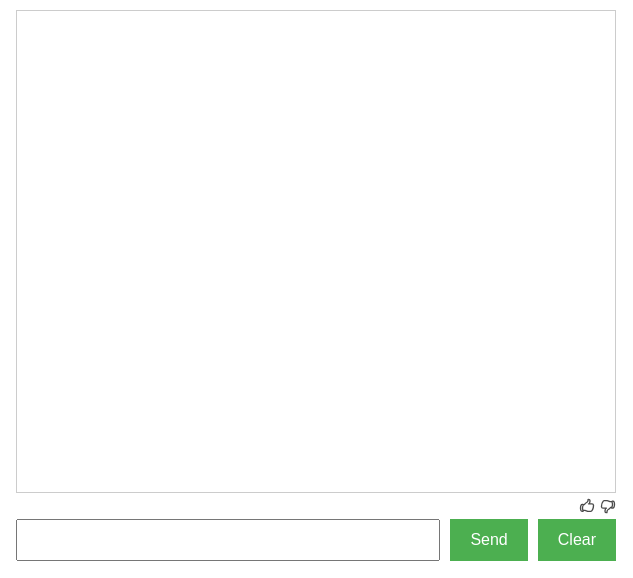
Chat Component Unit Tests › Handling special characters and Unicode
Note: Type a question and submit
Step 1. Type "How do you say \"Hello\" in Japanese? (日本語)" into the field with test id "input-container" → point(228, 540), box [16,519,440,561]
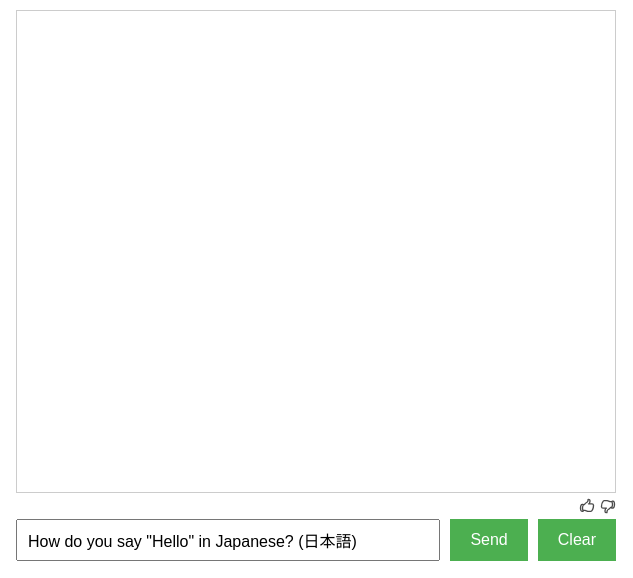
Step 2. Click the button "Send" → point(489, 540), box [450,519,528,561]
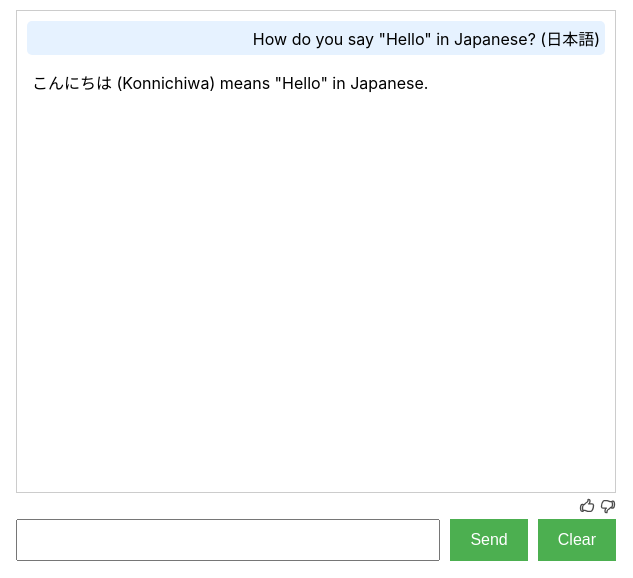
Expected: the text with test id "message-0" reads "How do you say \"Hello\" in Japanese? (日本語)", [253,29,600,49]
Expected: the text with test id "message-1" reads "こんにちは (Konnichiwa) means \"Hello\" in Japanese.", [32,73,428,93]
